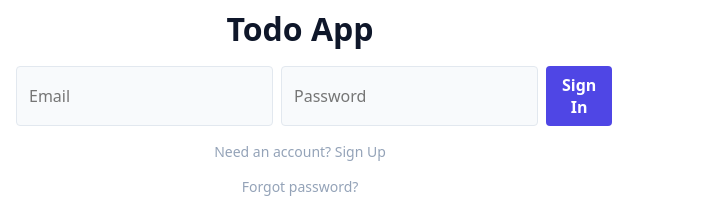
Scenario: AuthForm › displays error message when auth fails
This screenshot has width=709, height=213.
Step 1. Type "bad@example.com" into the field with placeholder "Email" → (144, 96), box 16,66 -> 273,126
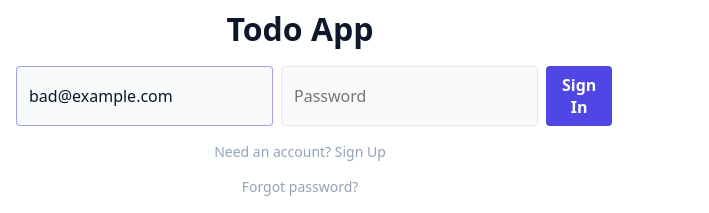
Step 2. Type "wrong" into the password field with placeholder "Password" → (410, 96), box 281,66 -> 538,126
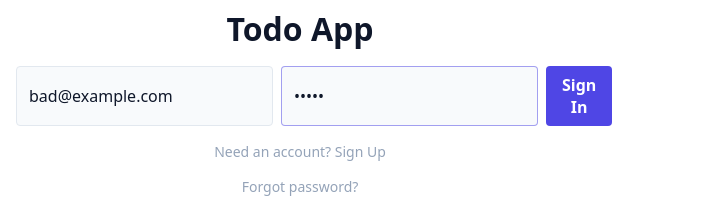
Step 3. Click the button "Sign In" → click(579, 96), box 546,66 -> 612,126
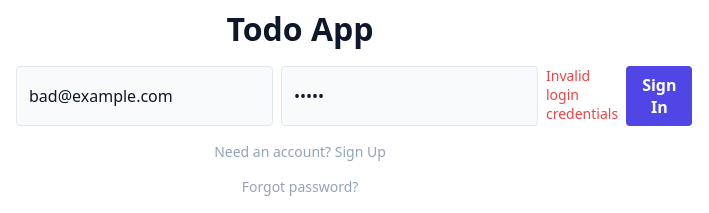
Expected: the text "Invalid login credentials" is shown, 546,66 -> 618,126
